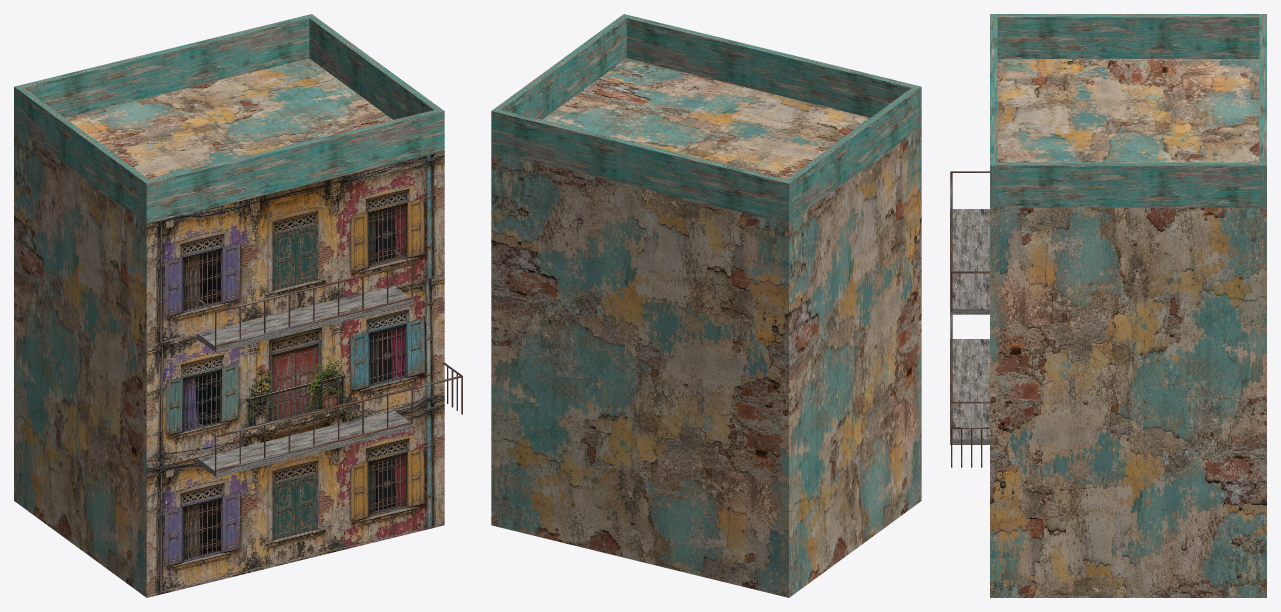
Rendered from bld_oldhaka_block_2.glb.
The picture shows the model from 3 angles, left to right: view 1: azimuth 30°, elevation 25°; view 2: azimuth 150°, elevation 25°; view 3: azimuth 270°, elevation 25°; orthographic projection. The views are drawn at different scales.
Visible parts, largest first — view 1: bld_oldhaka_block_2; view 2: bld_oldhaka_block_2; view 3: bld_oldhaka_block_2.
Part boxes in pixels (<box>): bld_oldhaka_block_2: <box>14,14,462,597</box>; bld_oldhaka_block_2: <box>491,14,921,597</box>; bld_oldhaka_block_2: <box>950,14,1266,597</box>.
Size of the model in its own units: 7 by 9.3 by 6.18.
5 materials, 5 textured.
